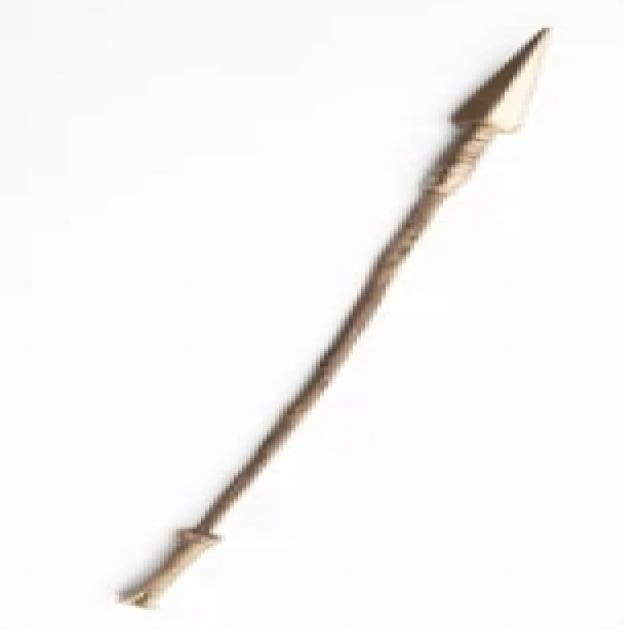spear: (90, 20, 596, 616)
